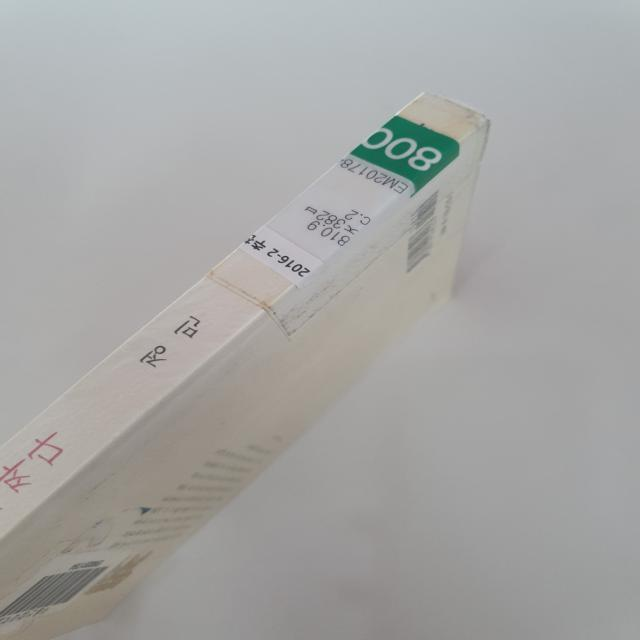Wornout: (424, 85, 494, 123), (478, 117, 496, 164)
